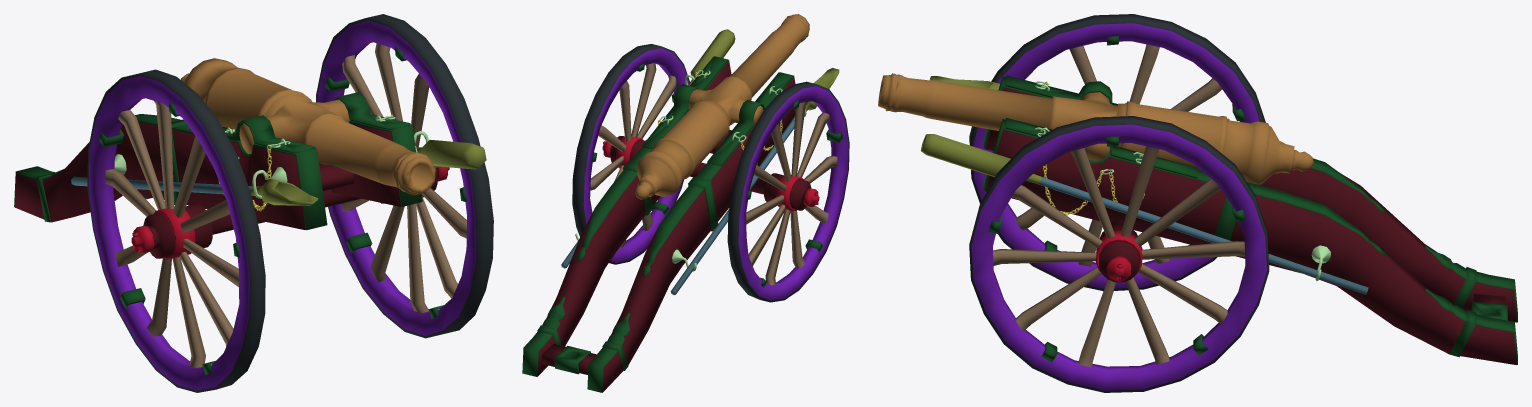
Rendered from cannon.fbx.
3 views of the same model, side by side, from view 1: azimuth 30°, elevation 25°; view 2: azimuth 150°, elevation 25°; view 3: azimuth 270°, elevation 25° (orthographic). The views are drawn at different scales.
Visible parts, largest first — view 1: cannon; view 2: cannon; view 3: cannon.
Part boxes in pixels (left/top/right/bottom): cannon: left=14, top=14, right=493, bottom=392; cannon: left=522, top=14, right=849, bottom=392; cannon: left=878, top=14, right=1517, bottom=392.
Bounding box in the file's own units: 1.91 × 1.72 × 3.68.
